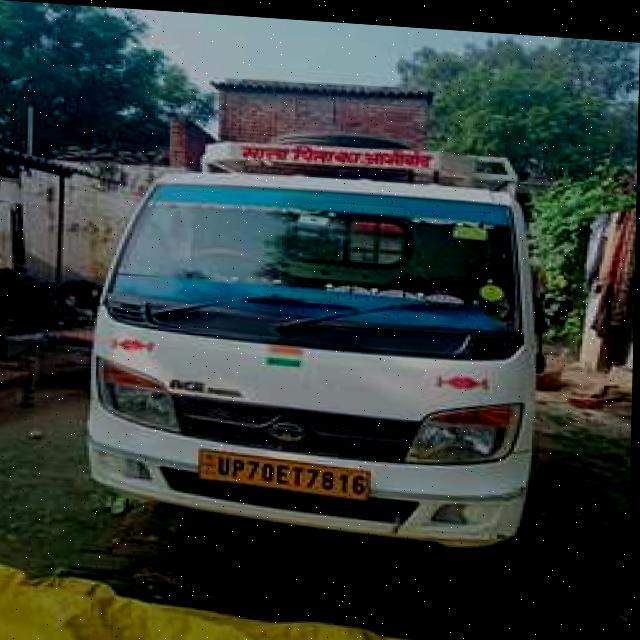plate: (196, 445, 378, 500)
